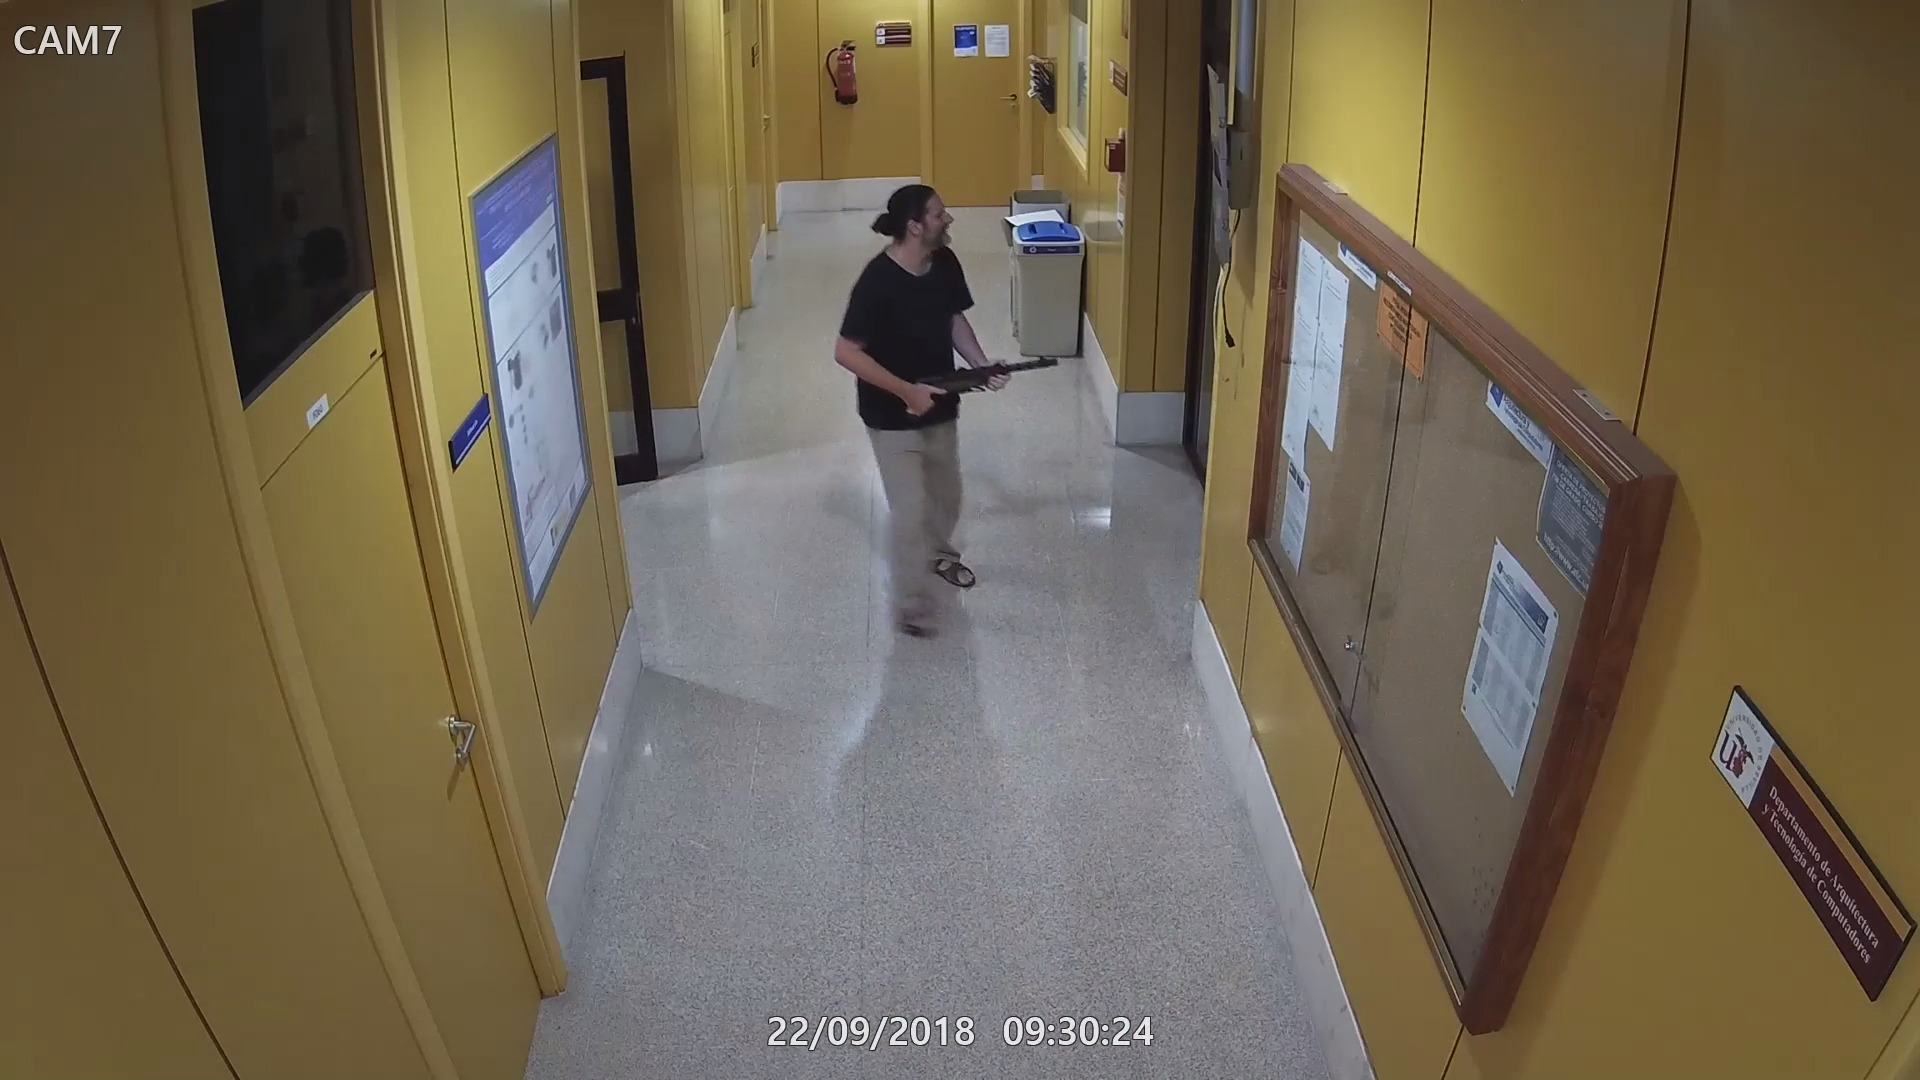Short_rifle: (876, 351, 1063, 419)
